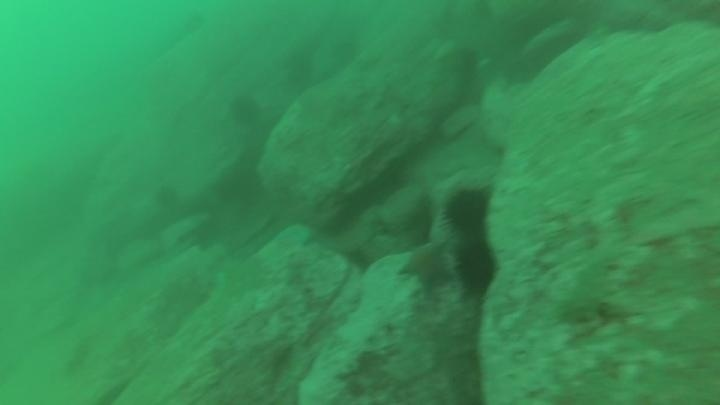echinus: (441, 185, 494, 238), (453, 239, 500, 297), (227, 92, 263, 129), (151, 182, 182, 212)
starfish: (398, 239, 454, 293)
